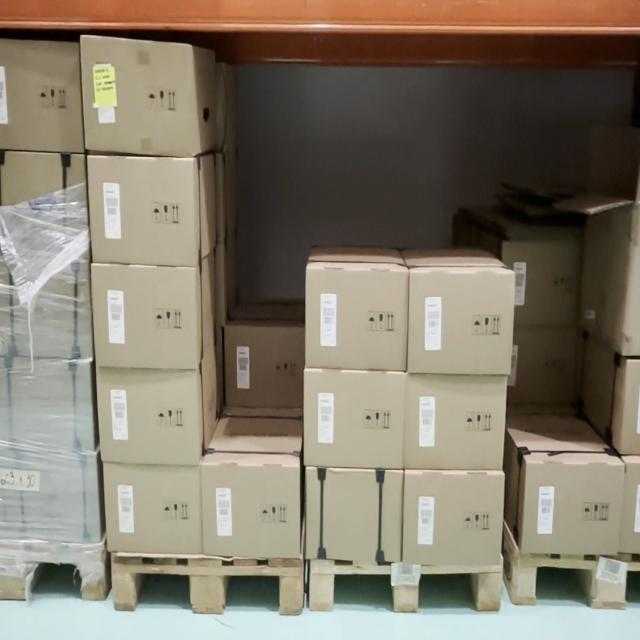box: (79, 36, 201, 154), (88, 159, 194, 264), (408, 274, 512, 372), (92, 268, 198, 362), (96, 370, 200, 463), (304, 372, 404, 467), (307, 272, 406, 367), (525, 465, 621, 559), (407, 376, 504, 469), (202, 462, 301, 553), (306, 471, 401, 562), (404, 475, 502, 562), (103, 469, 200, 554)
